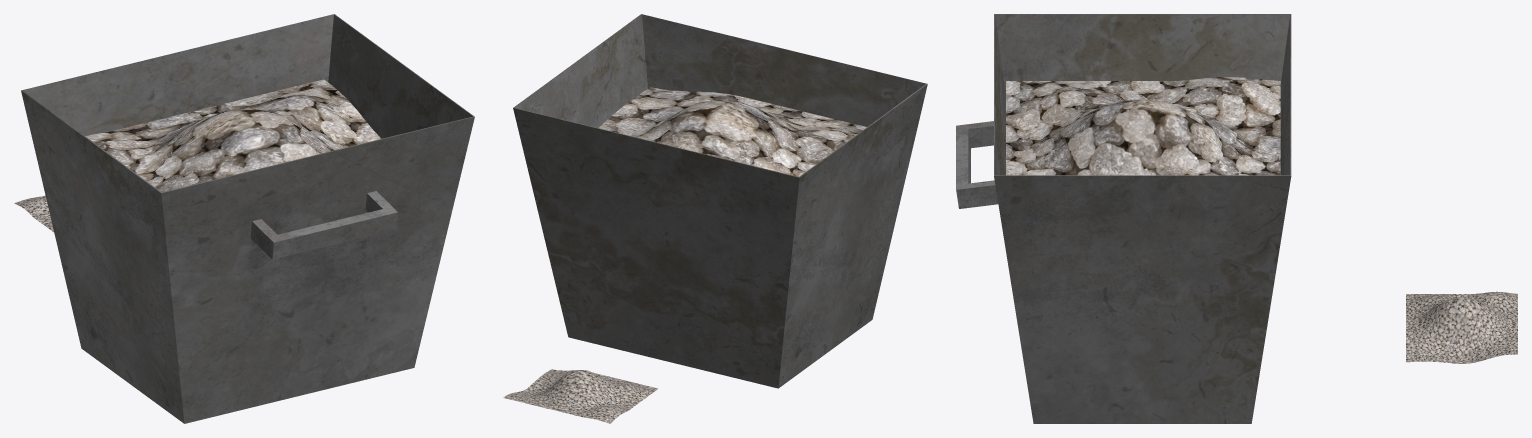
File: COVER BATH CONTAINER1.fbx
The picture shows the model from 3 angles, left to right: view 1: azimuth 30°, elevation 25°; view 2: azimuth 150°, elevation 25°; view 3: azimuth 270°, elevation 25°; orthographic projection. The views are drawn at different scales.
Parts seen in each view (by area): view 1: Cube.007, aluminium.001, aluminium; view 2: Cube.007, aluminium.001, aluminium; view 3: Cube.007, aluminium.001, aluminium.
Part boxes in pixels (x1,y1,x2,y2): Cube.007: (21, 14, 474, 423); aluminium.001: (85, 79, 381, 192); aluminium: (14, 195, 54, 232); Cube.007: (513, 14, 927, 388); aluminium.001: (599, 87, 866, 176); aluminium: (503, 369, 657, 423); Cube.007: (956, 14, 1291, 423); aluminium.001: (1006, 77, 1280, 175); aluminium: (1406, 291, 1517, 363).
Bounding box in the file's own units: 47.15 × 36.62 × 69.09.
Materials: 3 (3 with a texture image).
